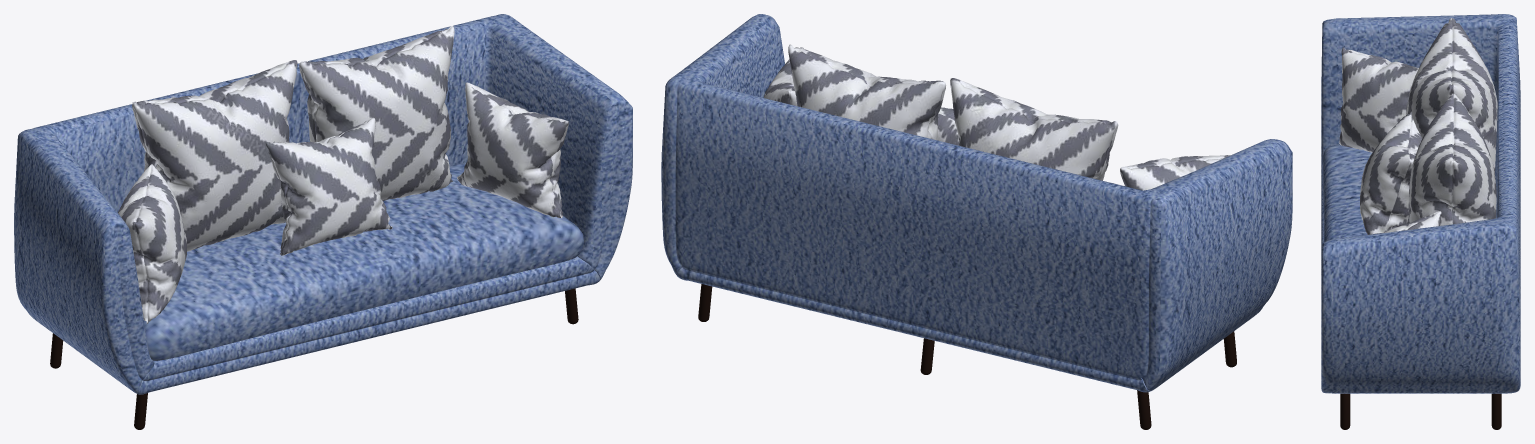
The picture shows the model from 3 angles, left to right: view 1: azimuth 30°, elevation 25°; view 2: azimuth 150°, elevation 25°; view 3: azimuth 270°, elevation 25°; orthographic projection. The views are drawn at different scales.
Parts seen in each view (by area): view 1: couch, pillow_02_geo, seat, Legs_03_geo; view 2: couch, pillow_02_geo, Legs_03_geo; view 3: couch, pillow_02_geo, seat, Legs_03_geo.
Part boxes in pixels (box(x1,y1,x2,y2)): couch: box(14, 14, 632, 394); pillow_02_geo: box(118, 26, 568, 323); seat: box(144, 162, 583, 360); Legs_03_geo: box(50, 288, 578, 429); couch: box(661, 14, 1292, 392); pillow_02_geo: box(763, 44, 1230, 190); Legs_03_geo: box(698, 284, 1236, 429); couch: box(1321, 14, 1520, 393); pillow_02_geo: box(1339, 18, 1497, 234); seat: box(1322, 145, 1371, 242); Legs_03_geo: box(1340, 393, 1501, 429).
Size of the model in its own units: 2.09 by 1.03 by 0.7535.
Materials: 4 (3 with a texture image).
